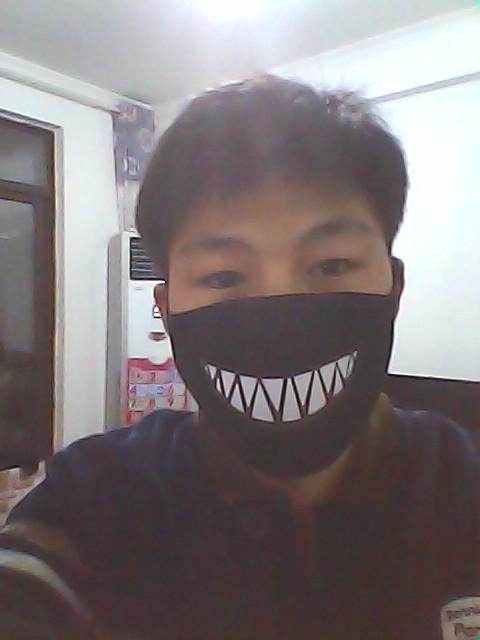OK: (167, 210, 403, 469)
